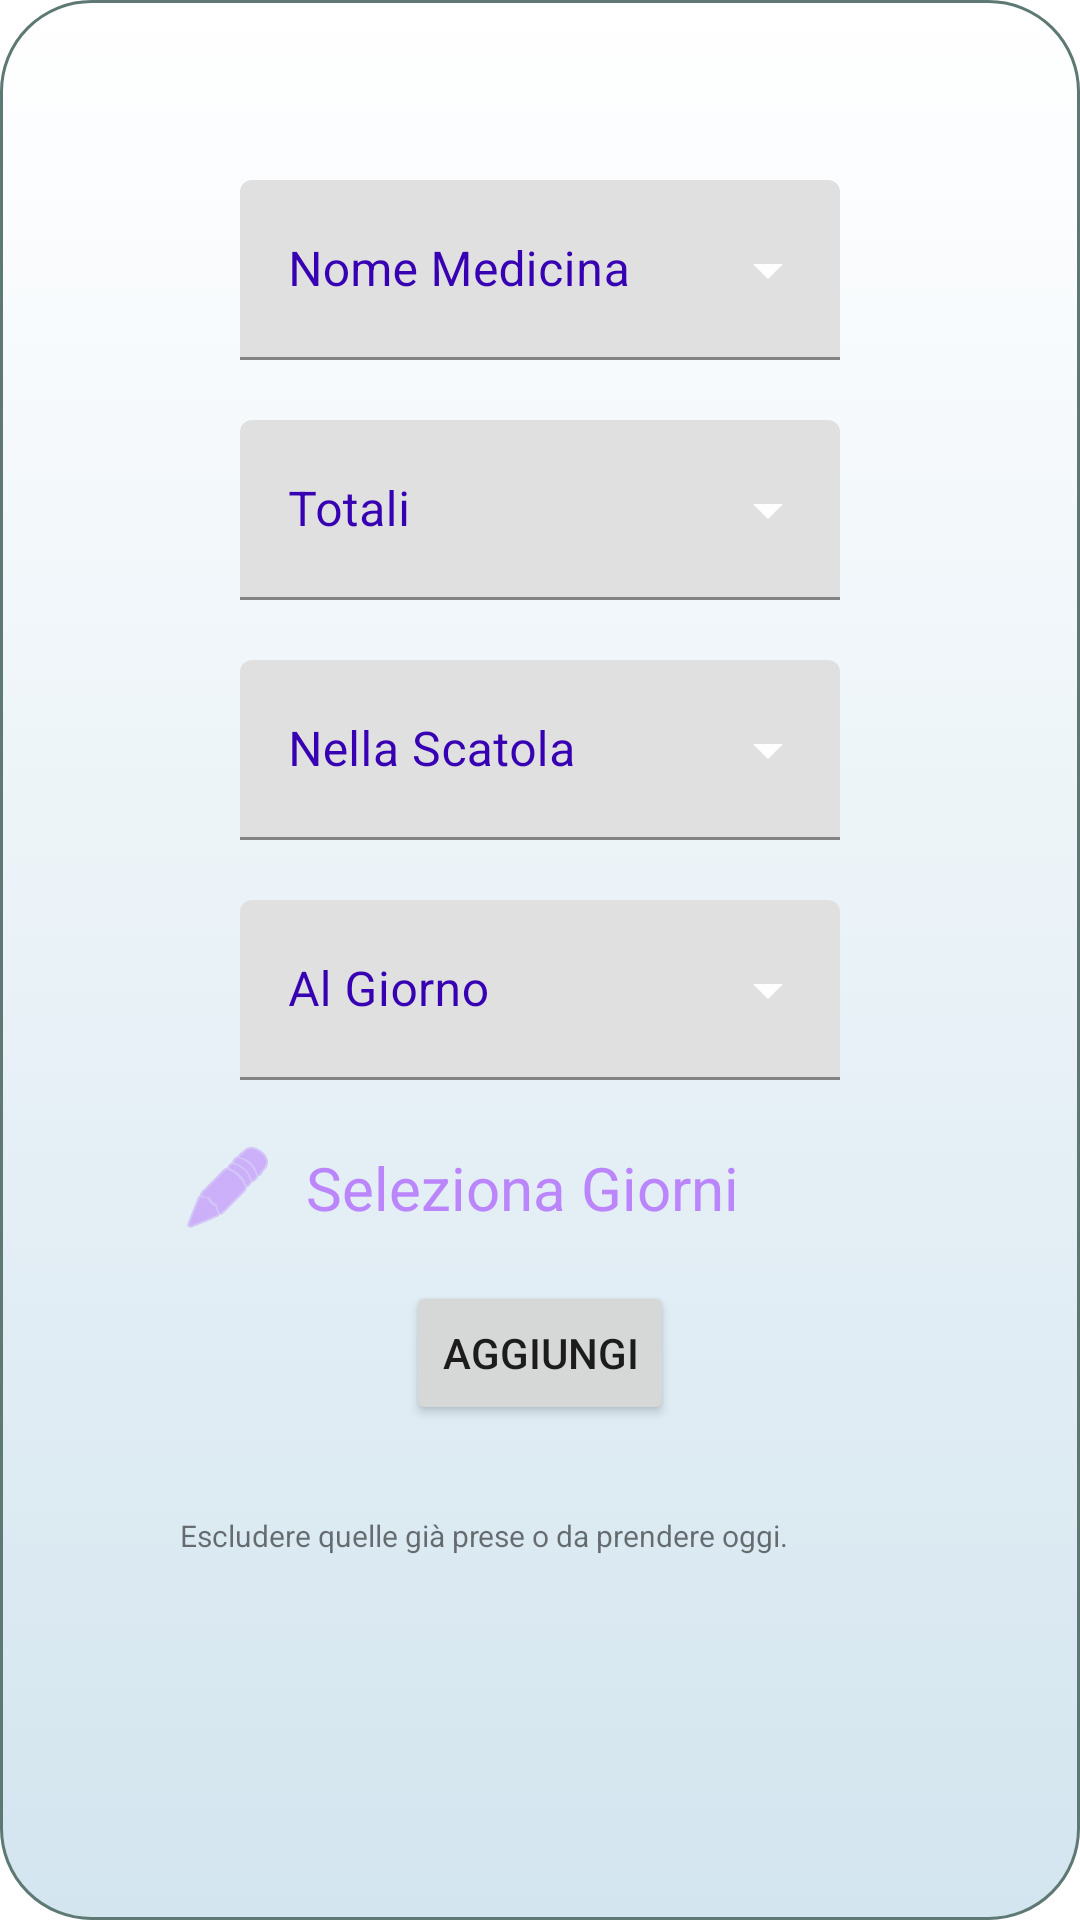

Screen size 1080×1920. Icon name, then its box in pixels as (x1, y1, x2, y2):
edit: (187, 1147, 268, 1228)
